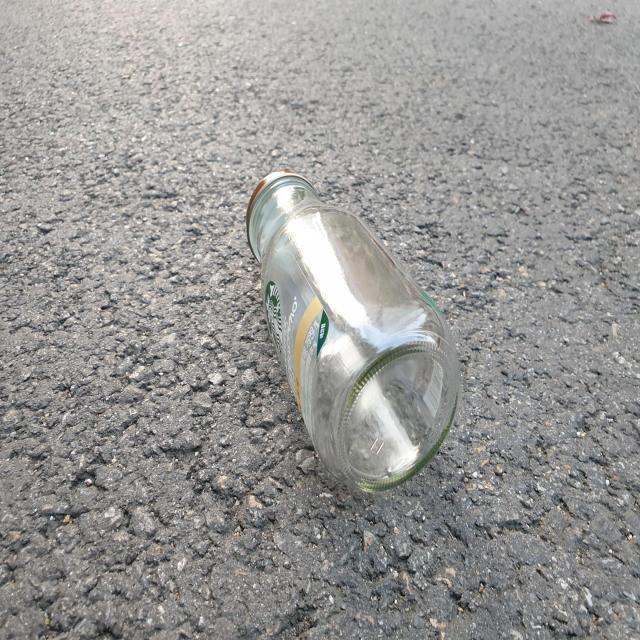glass: (246, 169, 461, 492)
